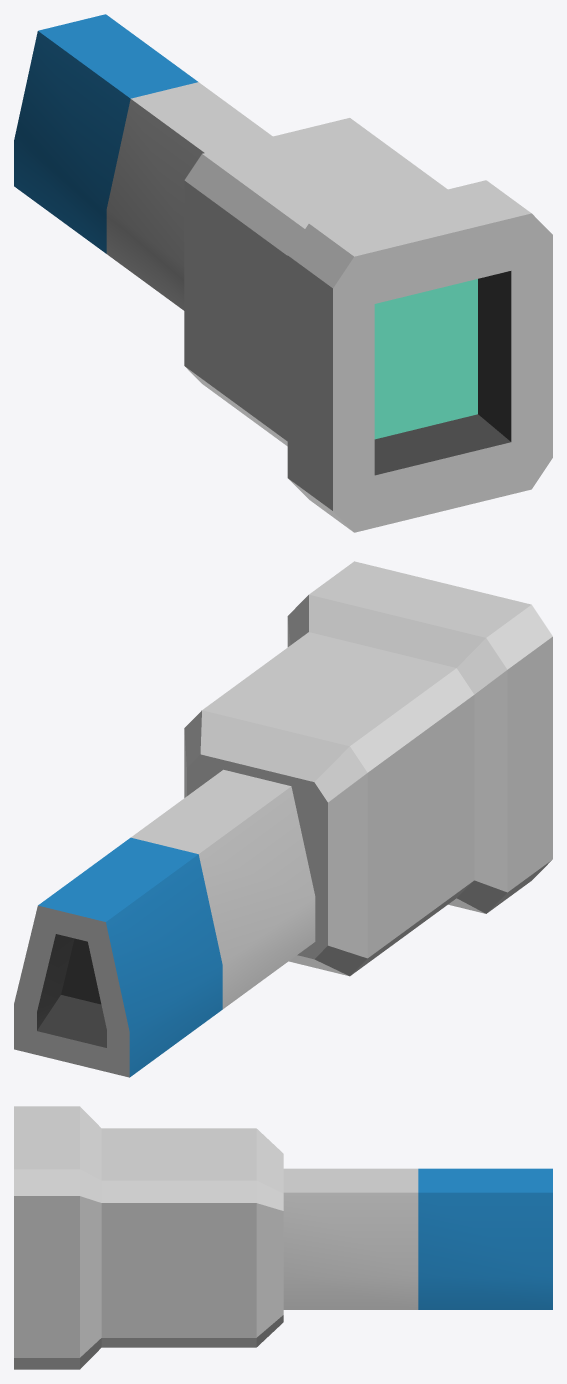
The model's file is Rifle.fbx.
3 views of the same model, one above another, from view 1: azimuth 30°, elevation 25°; view 2: azimuth 150°, elevation 25°; view 3: azimuth 270°, elevation 25° (orthographic). The views are drawn at different scales.
Parts seen in each view (by area): view 1: engine_large_1, engine_barrelTop_0; view 2: engine_large_1, engine_barrelTop_0; view 3: engine_large_1, engine_barrelTop_0.
Boxes of the visible parts, x1,y1,x2,y2 form: engine_large_1: [184, 118, 552, 532]; engine_barrelTop_0: [14, 14, 272, 310]; engine_large_1: [184, 561, 552, 976]; engine_barrelTop_0: [14, 769, 315, 1077]; engine_large_1: [14, 1106, 283, 1369]; engine_barrelTop_0: [283, 1168, 552, 1309].
Bounding box in the file's own units: 6.84 × 8.21 × 20.
